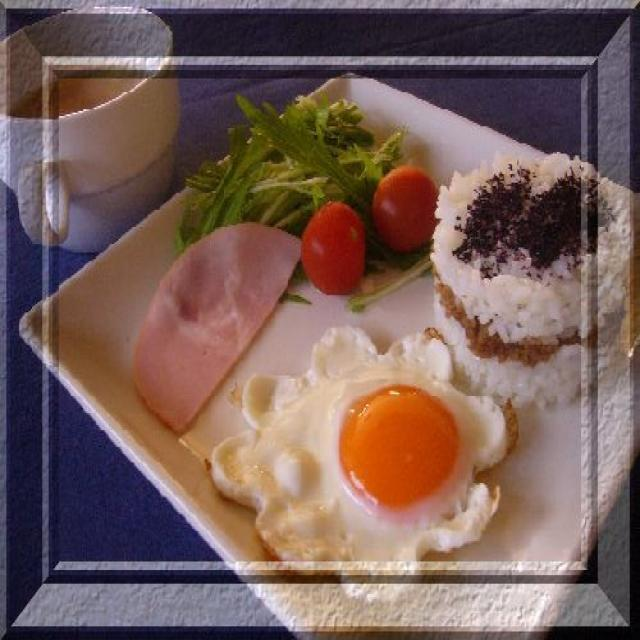Egg: (244, 328, 514, 556)
